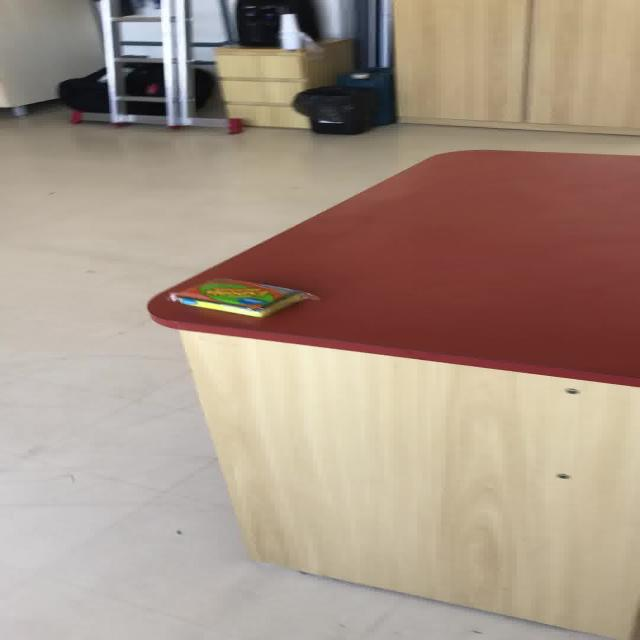sponge: (168, 277, 319, 318)
